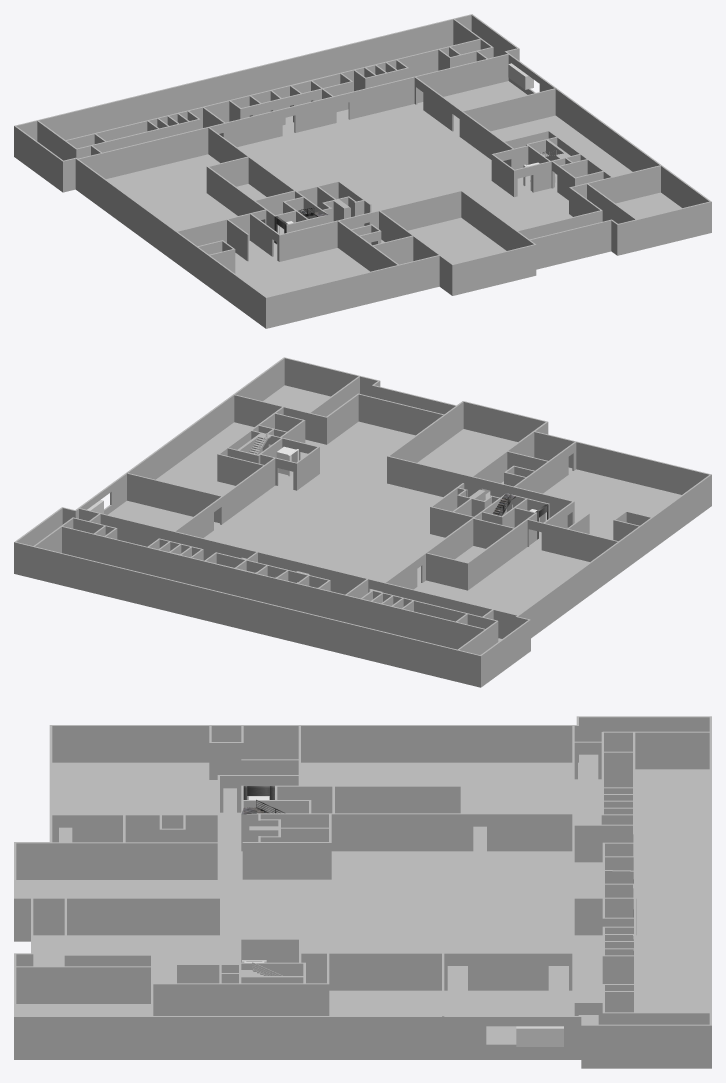
The model's file is Library.fbx.
3 renders of one model, top to bottom at view 1: azimuth 30°, elevation 25°; view 2: azimuth 150°, elevation 25°; view 3: azimuth 270°, elevation 25°, orthographic. The views are drawn at different scales.
Parts seen in each view (by area): view 1: Library; view 2: Library; view 3: Library, Cube.
Boxes of the visible parts, <box> form: Library: <box>14,14,711,328</box>; Library: <box>14,357,711,687</box>; Library: <box>14,716,711,1068</box>; Cube: <box>516,1026,563,1046</box>.
Size of the model in its own units: 10835 by 829 by 10335.
